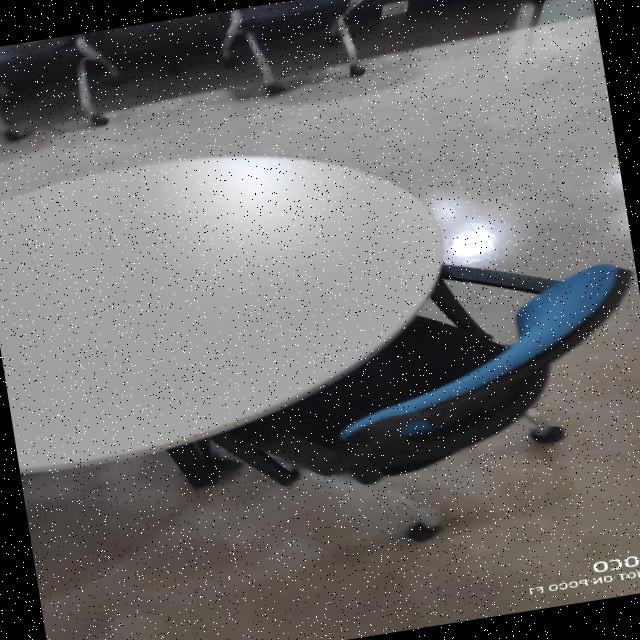Chair: (166, 226, 640, 585)
Table: (0, 86, 524, 497)
